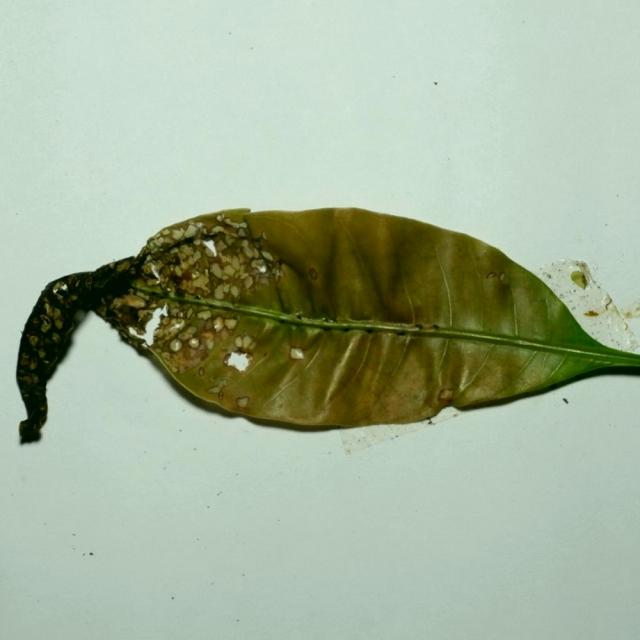Anthracnose: (518, 258, 640, 382), (142, 287, 415, 337), (172, 275, 360, 332), (411, 321, 634, 366), (529, 341, 636, 391), (296, 311, 424, 334), (137, 225, 208, 263), (90, 254, 142, 293), (252, 234, 280, 280), (131, 281, 186, 304), (584, 358, 638, 379), (210, 237, 236, 271), (130, 276, 155, 292)
Mango: (15, 208, 639, 445)
